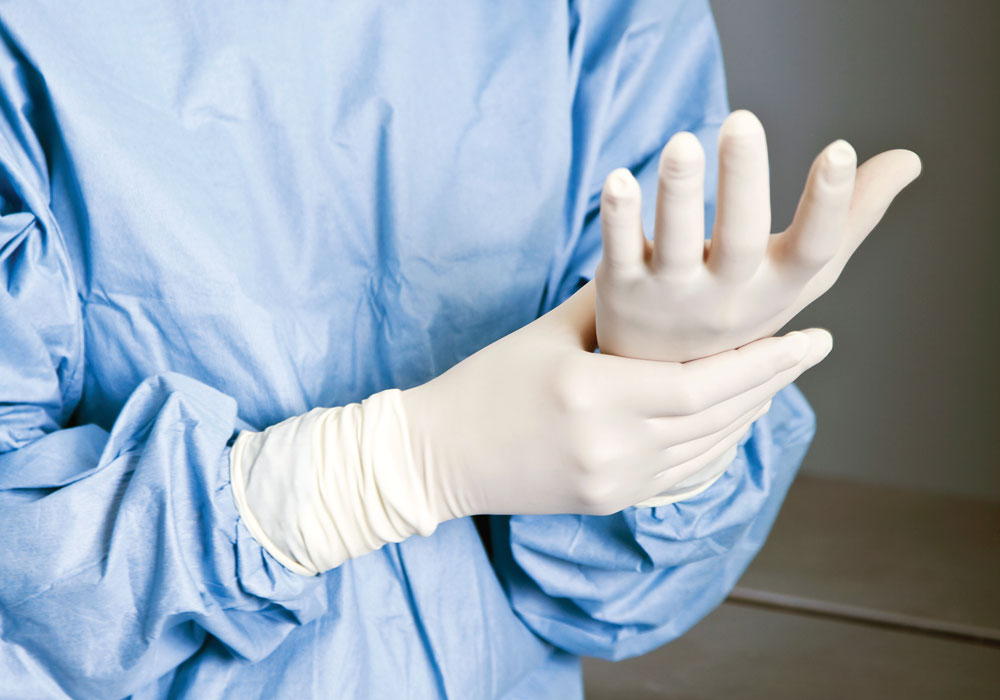glove: (589, 105, 924, 507), (410, 273, 840, 540)
